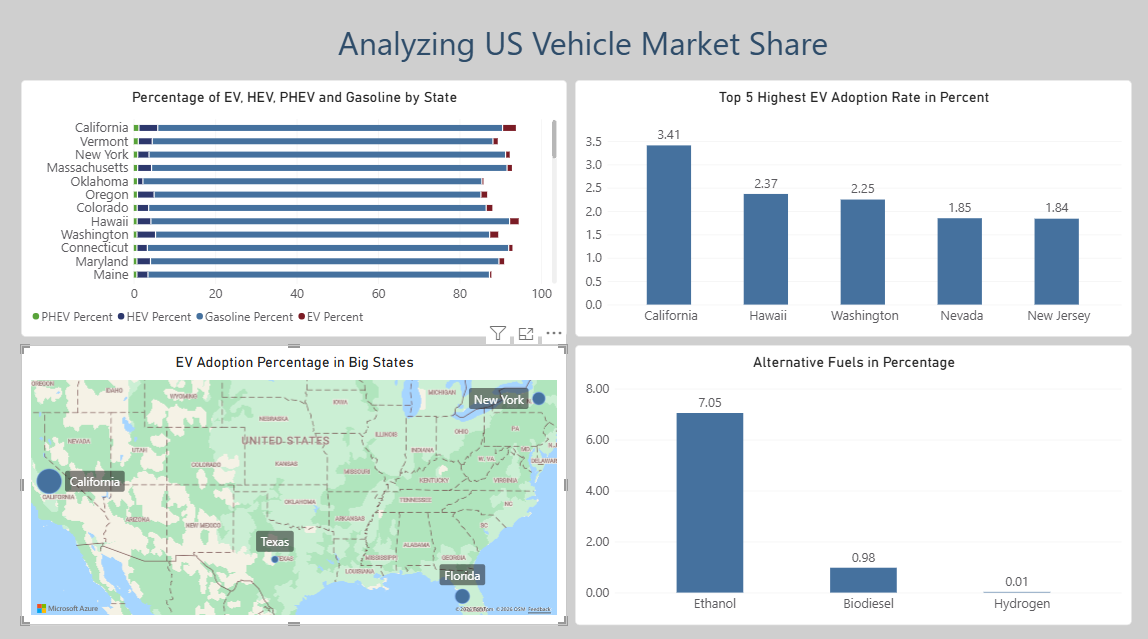

The dashboard page shown, as its layout file describes it:
{"tool":"powerbi","page":{"name":"Page 1","canvas":[1920,1080],"ordinal":0},"visuals":[{"type":"textbox","box":[56,36,1848,86],"z":0},{"type":"barChart","title":"Percentage of EV, HEV, PHEV and Gasoline by State","fields":{"Category":["Percent of EV, HEV, PHEV, Gasol.State"],"Y":["Sum(Percent of EV, HEV, PHEV, Gasol.PHEV_Percent)","Sum(Percent of EV, HEV, PHEV, Gasol.HEV_Percent)","Sum(Percent of EV, HEV, PHEV, Gasol.Gasoline_Percent)","Sum(Percent of EV, HEV, PHEV, Gasol.EV_Percent)"]},"box":[36.7,136.7,910,428.3],"z":1000},{"type":"columnChart","title":"Top 5 Highest EV Adoption Rate in Percent","fields":{"Category":["Highest EV Adoption States (2).State"],"Y":["Sum(Highest EV Adoption States (2).Highest_EV_Adoption_Rate)"]},"box":[960,136.7,928.3,428.3],"z":2000},{"type":"azureMap","title":"EV Adoption Percentage in Big States","fields":{"Category":["EV adoption in CA vs other big states.State"],"Size":["Sum(EV adoption in CA vs other big states.EV_Adoption_Rate)"]},"box":[36.7,578.3,910,466.7],"z":3000},{"type":"columnChart","title":"Alternative Fuels in Percentage","fields":{"Category":["Alternative_Options.Fuels Category"],"Y":["Sum(Alternative_Options.Percent Market)"]},"box":[960,578.3,928.3,466.7],"z":4000}]}

Visuals, with their boxes in screenshot pixels (x1, y1, x2, y2), scaled from the page's 1920x1080 canvas onto the 1148x639 screenshot:
textbox: Rect(33, 21, 1138, 72)
"Percentage of EV, HEV, PHEV and Gasoline by State" barChart: Rect(22, 81, 566, 334)
"Top 5 Highest EV Adoption Rate in Percent" columnChart: Rect(574, 81, 1129, 334)
"EV Adoption Percentage in Big States" azureMap: Rect(22, 342, 566, 618)
"Alternative Fuels in Percentage" columnChart: Rect(574, 342, 1129, 618)
